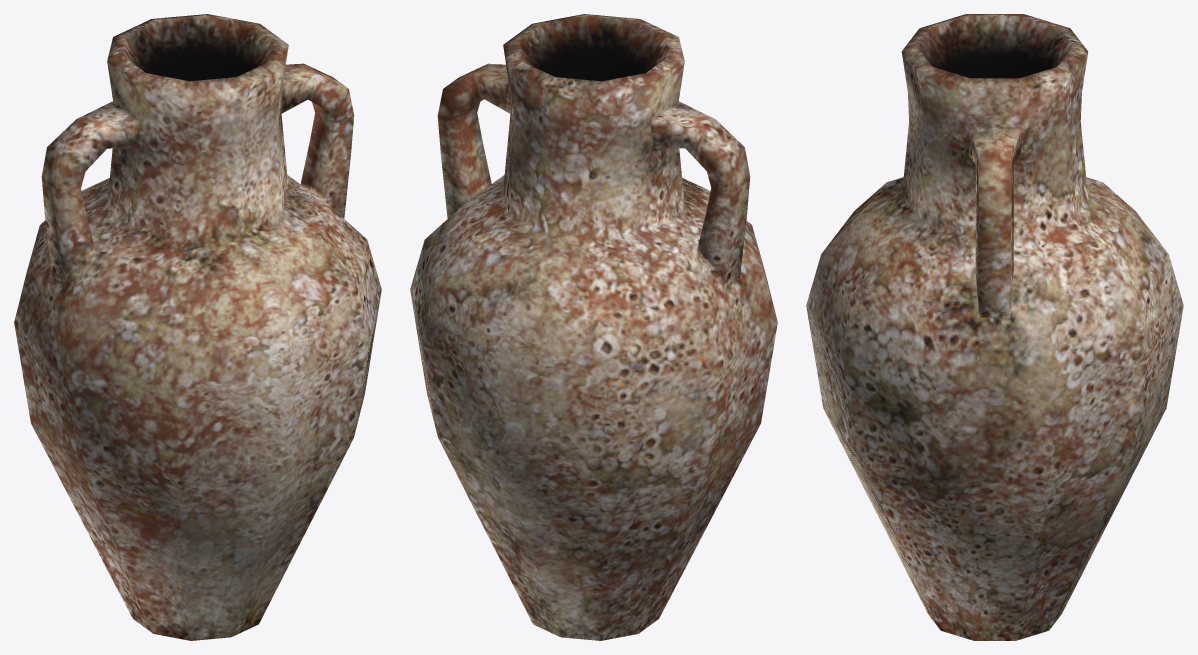
The model's file is amphora.glb.
3 views of the same model, side by side, from view 1: azimuth 30°, elevation 25°; view 2: azimuth 150°, elevation 25°; view 3: azimuth 270°, elevation 25° (orthographic).
Parts seen in each view (by area): view 1: Object002; view 2: Object002; view 3: Object002.
Boxes of the visible parts, left/top/right/bottom form: Object002: left=14, top=14, right=381, bottom=640; Object002: left=410, top=14, right=777, bottom=640; Object002: left=806, top=14, right=1183, bottom=640.
Size of the model in its own units: 2.87 by 5.06 by 3.02.
Materials: 1 (1 with a texture image).
